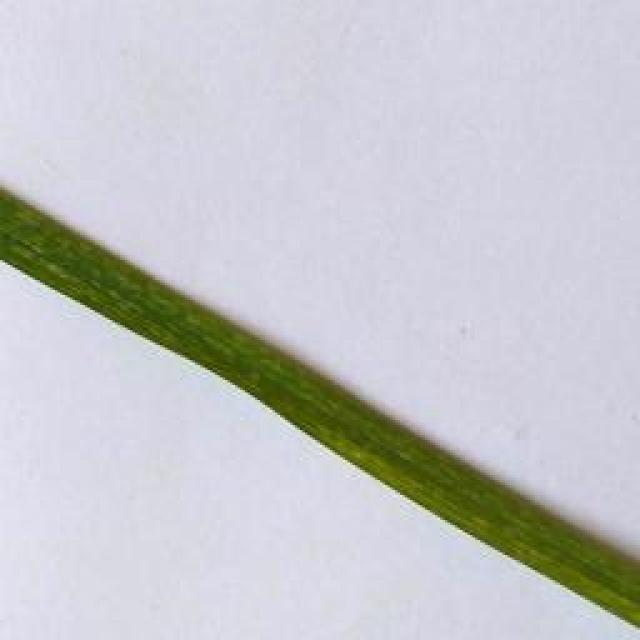Healthy-Plant: (0, 184, 640, 623)
